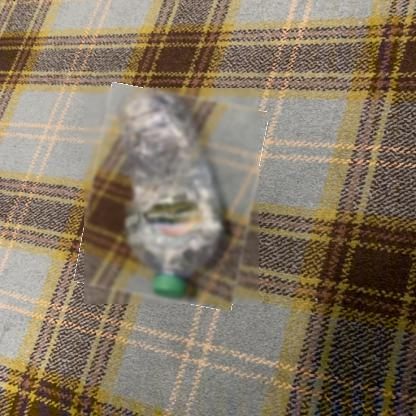plastic-bottles: (85, 89, 261, 306)
